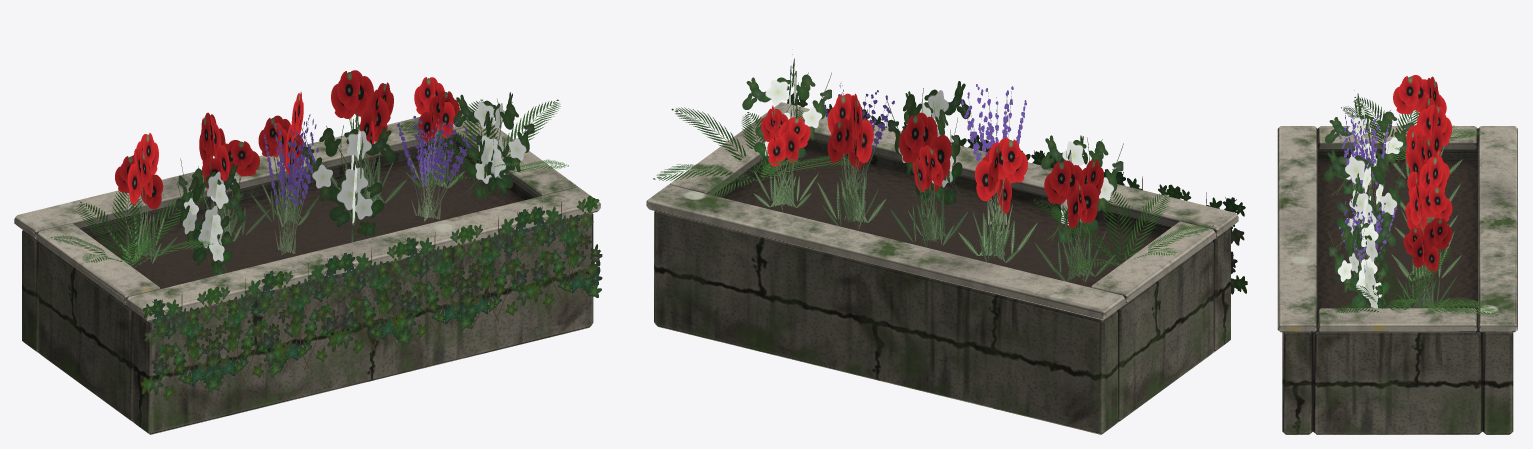
Rendered from RaisedFlowerBed.fbx.
3 views of the same model, side by side, from view 1: azimuth 30°, elevation 25°; view 2: azimuth 150°, elevation 25°; view 3: azimuth 270°, elevation 25° (orthographic). The views are drawn at different scales.
Parts seen in each view (by area): view 1: RaisedFlowerBed_Main, RaisedFlowerBed_Leaves; view 2: RaisedFlowerBed_Main, RaisedFlowerBed_Leaves; view 3: RaisedFlowerBed_Main, RaisedFlowerBed_Leaves.
Boxes of the visible parts, x1,y1,x2,y2 form: RaisedFlowerBed_Main: (14,106,600,434); RaisedFlowerBed_Leaves: (51,70,602,400); RaisedFlowerBed_Main: (646,102,1238,434); RaisedFlowerBed_Leaves: (653,54,1247,294); RaisedFlowerBed_Main: (1277,126,1517,434); RaisedFlowerBed_Leaves: (1324,75,1498,315).
Size of the model in its own units: 710 by 368 by 315.
